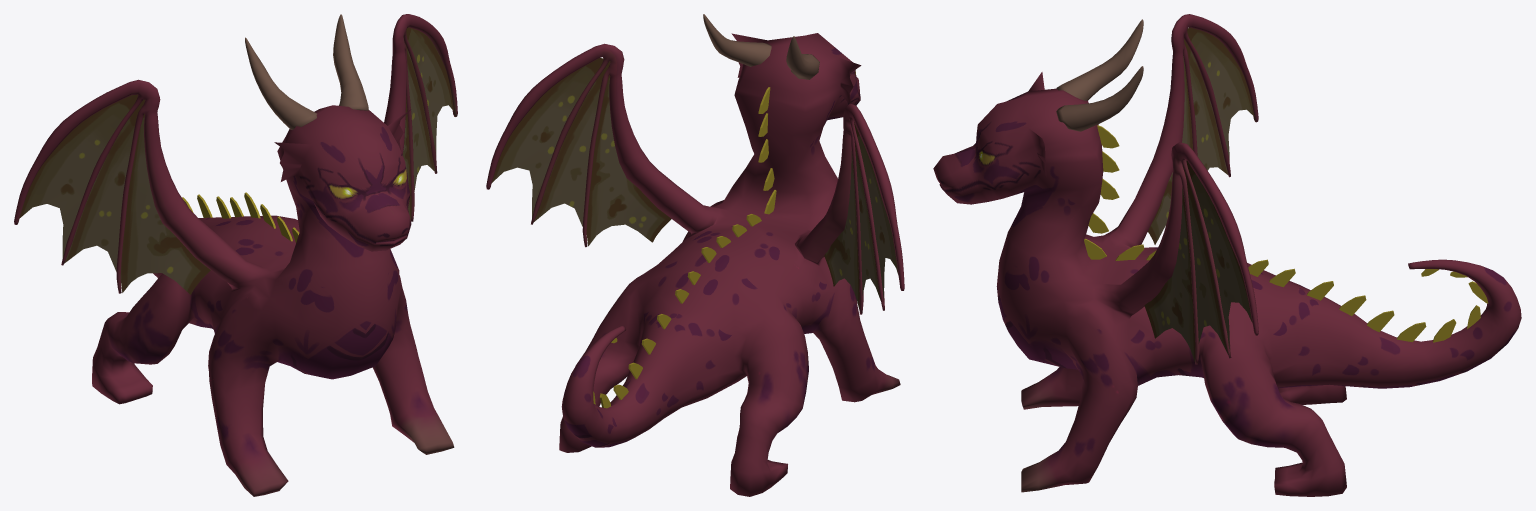
File: Dragão_final[1].fbx
The picture shows the model from 3 angles, left to right: view 1: azimuth 30°, elevation 25°; view 2: azimuth 150°, elevation 25°; view 3: azimuth 270°, elevation 25°; orthographic projection. The views are drawn at different scales.
Visible parts, largest first — view 1: Cylinder.001, Cube, Espinhos; view 2: Cylinder.001, Espinhos, Cube; view 3: Cylinder.001, Espinhos, Cube.
Part boxes in pixels (x1=…): Cylinder.001: x1=14, y1=14, x2=457, y2=496; Cube: x1=245, y1=14, x2=368, y2=129; Espinhos: x1=182, y1=192, x2=299, y2=242; Cylinder.001: x1=486, y1=33, x2=904, y2=496; Espinhos: x1=593, y1=87, x2=776, y2=408; Cube: x1=703, y1=14, x2=819, y2=79; Cylinder.001: x1=933, y1=14, x2=1521, y2=496; Espinhos: x1=1084, y1=125, x2=1488, y2=342; Cube: x1=1056, y1=19, x2=1143, y2=131.
Bounding box in the file's own units: 727 × 634 × 837.
Materials: 2 (1 with a texture image).
